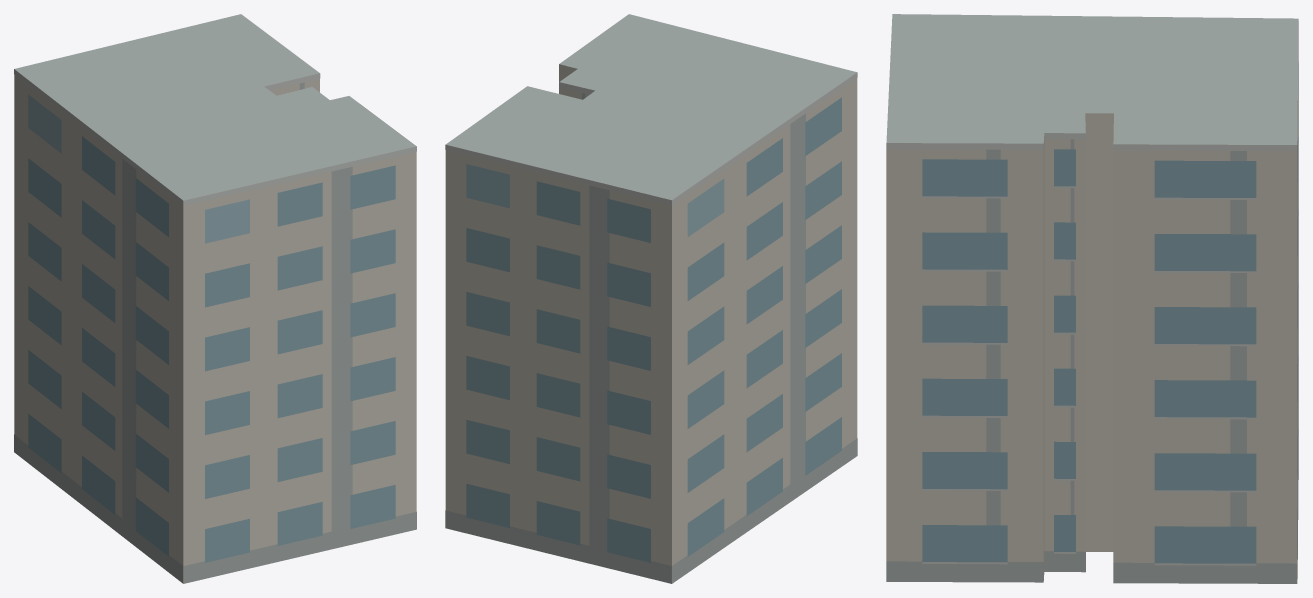
Rendered from survey-upis-33037172.glb.
The picture shows the model from 3 angles, left to right: view 1: azimuth 30°, elevation 25°; view 2: azimuth 150°, elevation 25°; view 3: azimuth 270°, elevation 25°; orthographic projection. The views are drawn at different scales.
Visible parts, largest first — view 1: survey-upis-33037172.tmp; view 2: survey-upis-33037172.tmp; view 3: survey-upis-33037172.tmp.
Boxes of the visible parts, <box> form: survey-upis-33037172.tmp: <box>14,14,416,583</box>; survey-upis-33037172.tmp: <box>445,14,857,583</box>; survey-upis-33037172.tmp: <box>886,14,1298,583</box>.
Bounding box in the file's own units: 11.03 × 17.2 × 14.65.
